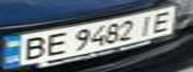2: (118, 17, 139, 43)
4: (90, 23, 109, 48)
8: (103, 20, 124, 45)
9: (69, 25, 93, 52)
B: (15, 34, 51, 62)
E: (145, 8, 184, 34), (39, 30, 72, 59)
I: (133, 11, 160, 37)
